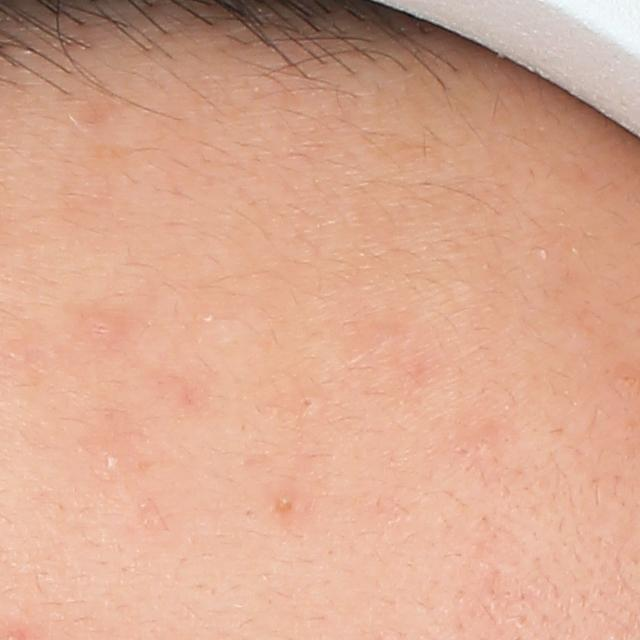comedo: (298, 394, 320, 415), (273, 495, 293, 516)
